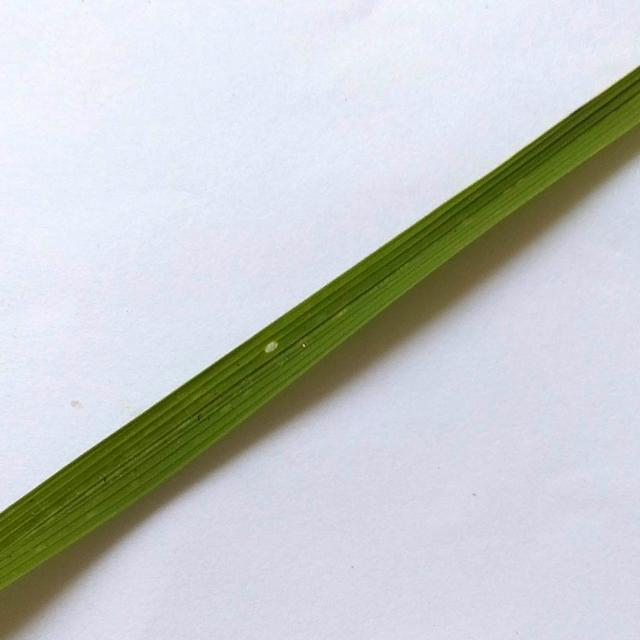Rice_Healthy: (0, 67, 640, 589)
